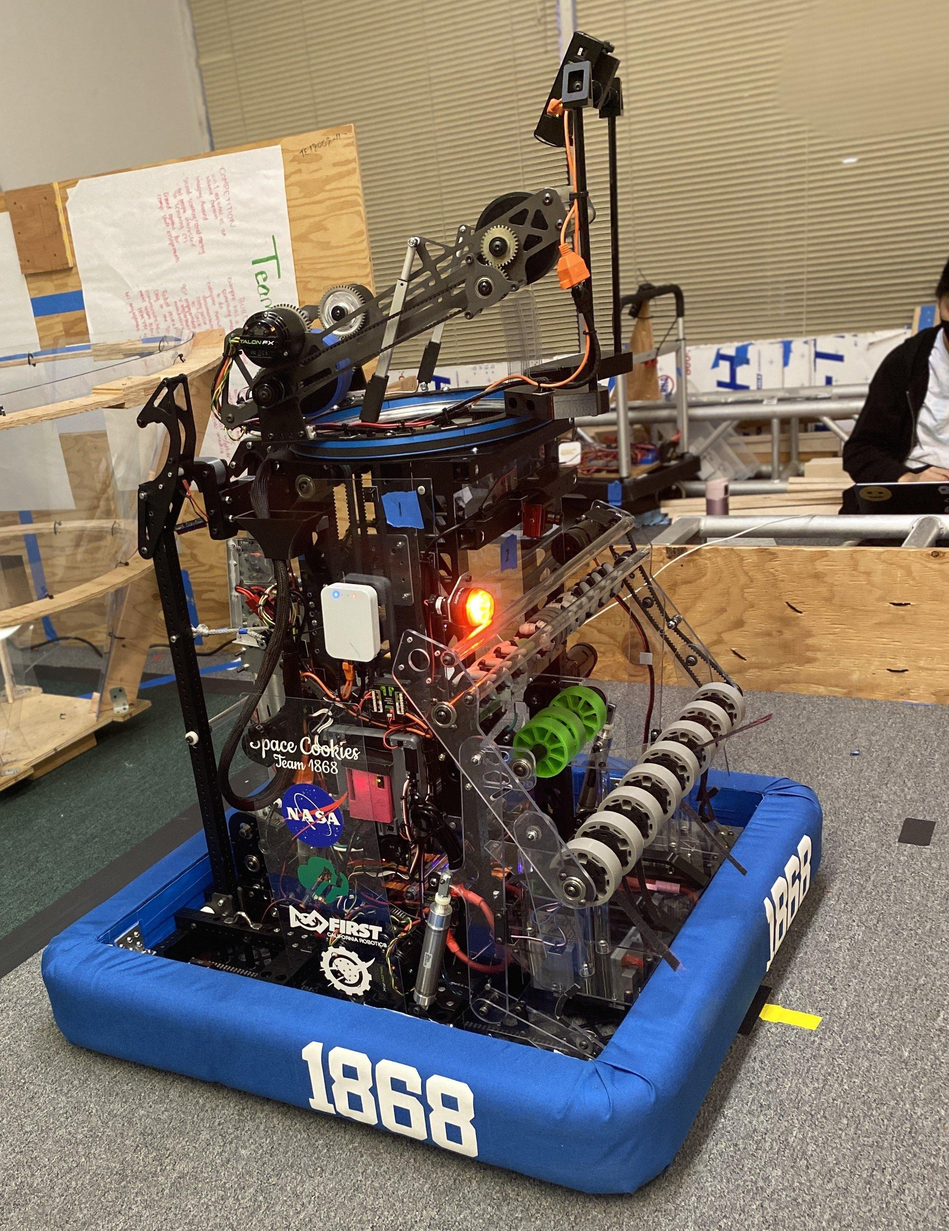robot: (35, 8, 835, 1211)
